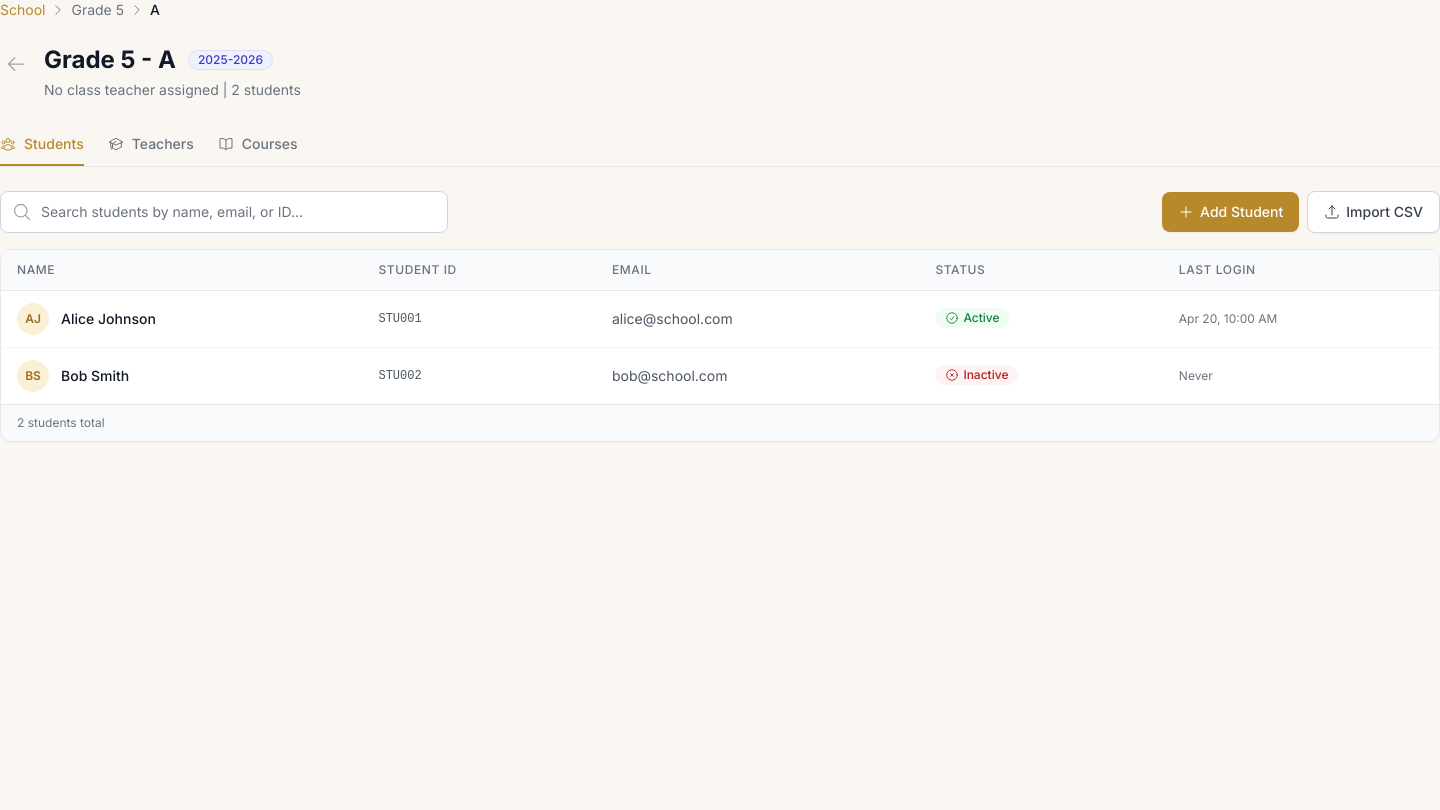
SectionDetailPage › 6. Add Student modal › "Add Student" toolbar button opens the modal
This screenshot has width=1440, height=810.
# Click the toolbar Add Student button (first match)
Step 1. Click the button "Add Student" → (1231, 212), box [1162,192,1299,232]
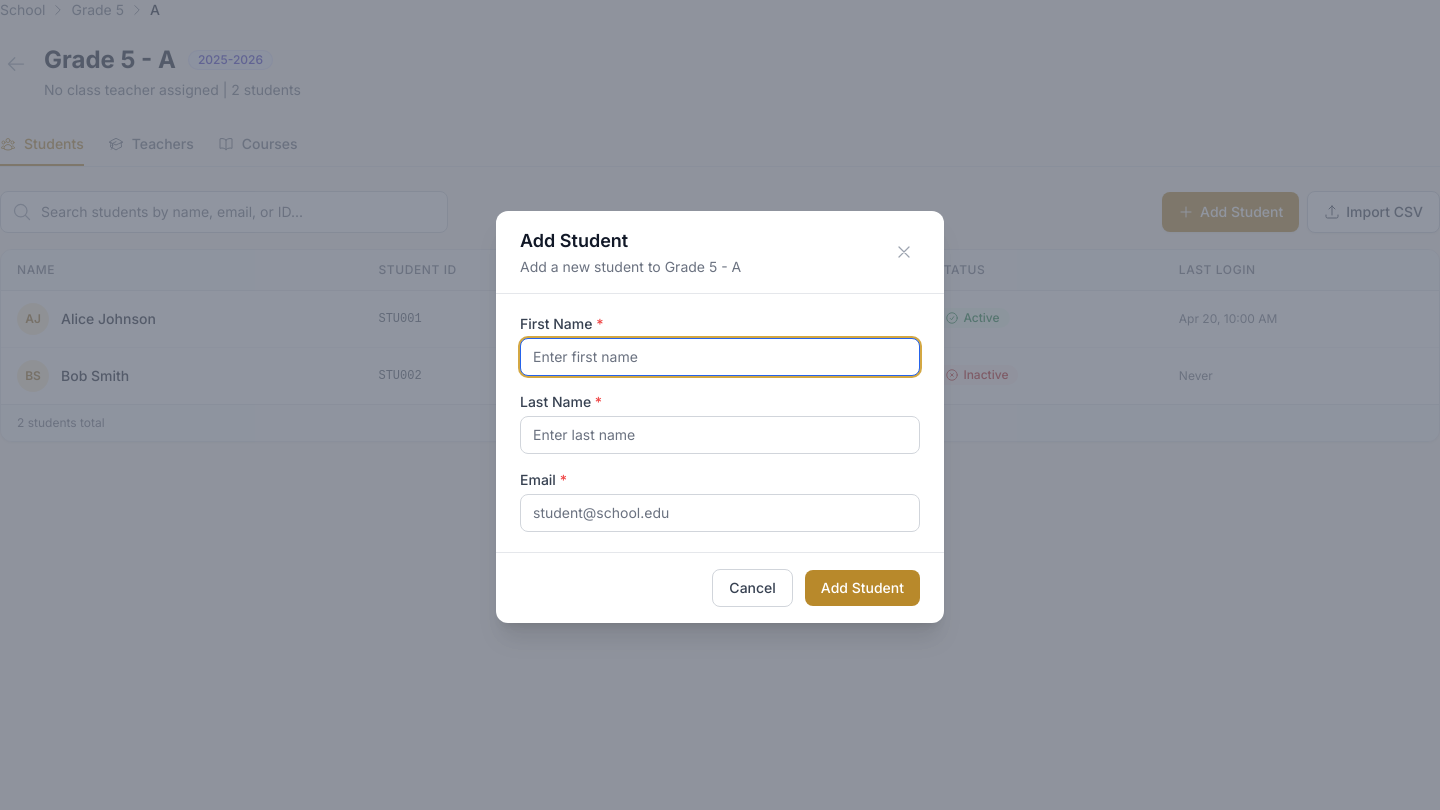
Check: the heading "Add Student" is shown, box [520,230,628,251]
